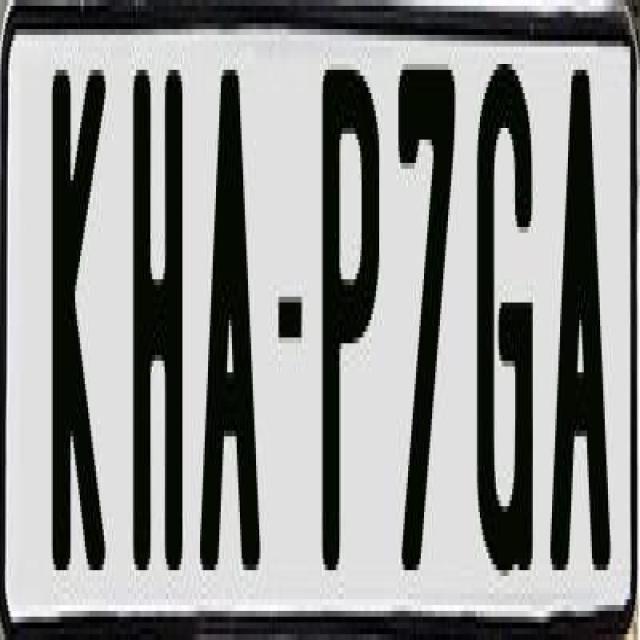7: (396, 52, 454, 576)
A: (197, 70, 266, 576), (548, 52, 614, 576)
G: (472, 46, 528, 588)
H: (132, 58, 188, 576)
K: (50, 64, 104, 582)
P: (316, 52, 374, 570)
